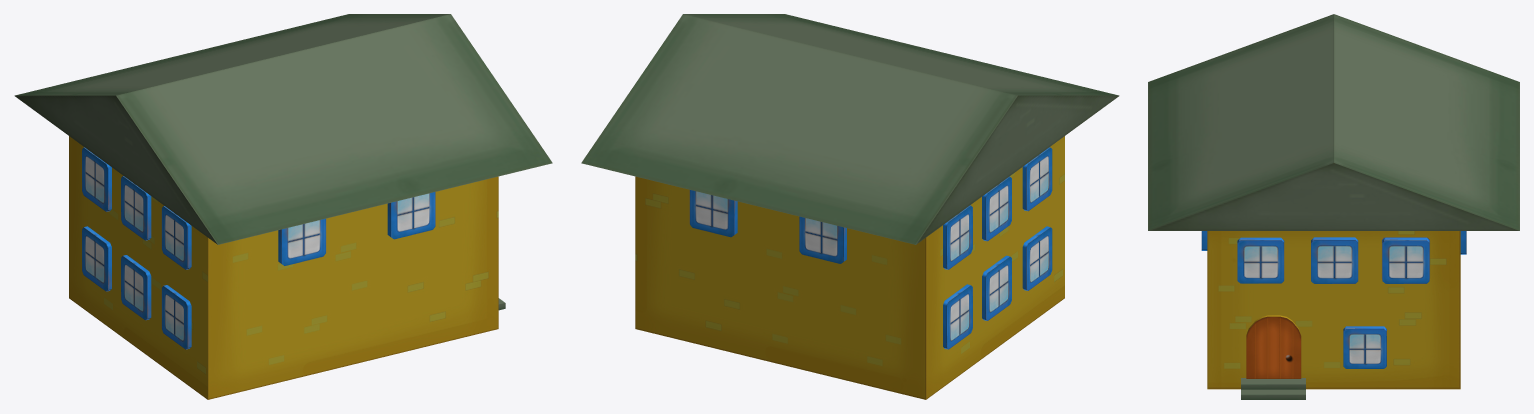
File: House_2.fbx
3 views of the same model, side by side, from view 1: azimuth 30°, elevation 25°; view 2: azimuth 150°, elevation 25°; view 3: azimuth 270°, elevation 25° (orthographic). The views are drawn at different scales.
Parts seen in each view (by area): view 1: House_2; view 2: House_2; view 3: House_2.
Boxes of the visible parts, x1=… form: House_2: x1=14, y1=14, x2=552, y2=399; House_2: x1=581, y1=14, x2=1119, y2=399; House_2: x1=1148, y1=14, x2=1519, y2=399.
Size of the model in its own units: 9.52 by 6.96 by 9.94.
